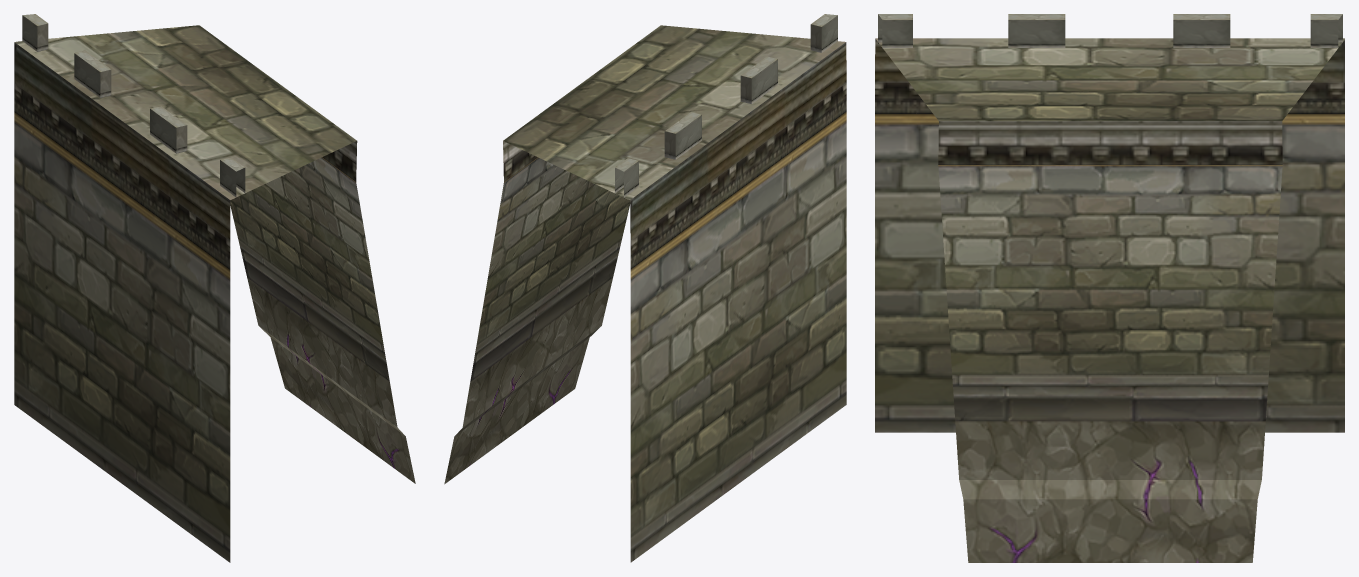
The model's file is DN_GH_Wall01_b.FBX.
3 renders of one model, left to right at view 1: azimuth 30°, elevation 25°; view 2: azimuth 150°, elevation 25°; view 3: azimuth 270°, elevation 25°, orthographic. The views are drawn at different scales.
Parts seen in each view (by area): view 1: DN_GH_Wall01_b; view 2: DN_GH_Wall01_b; view 3: DN_GH_Wall01_b.
Part boxes in pixels (x1,y1,x2,y2): DN_GH_Wall01_b: (14, 14, 415, 562); DN_GH_Wall01_b: (444, 14, 846, 562); DN_GH_Wall01_b: (875, 14, 1344, 562).
Size of the model in its own units: 316 by 525 by 518.
1 material, 1 textured.
